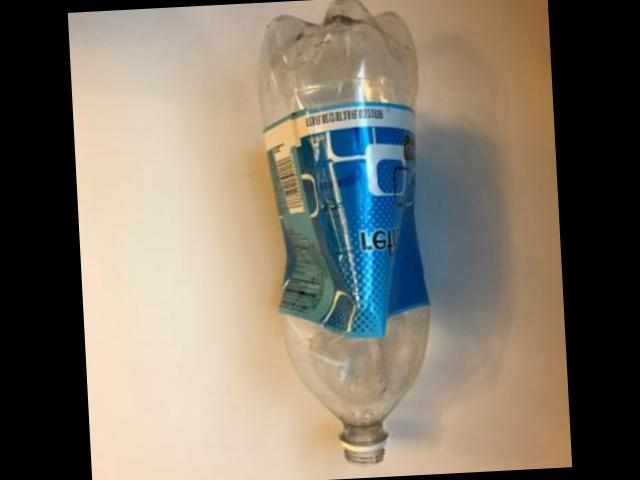plastic: (262, 0, 432, 466)
